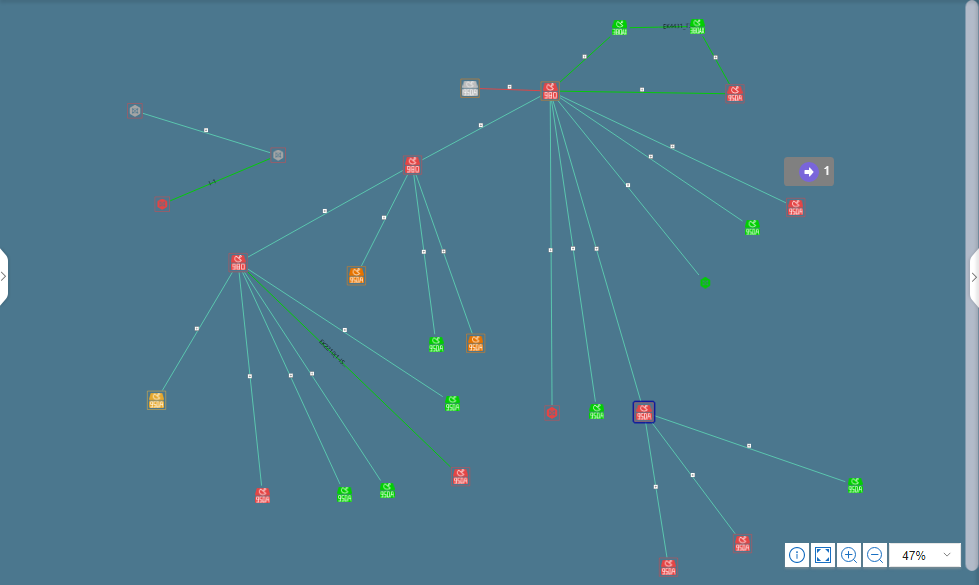ATN_Orange: (346, 271, 369, 288), (468, 332, 483, 355), (150, 393, 165, 409)
ATN_Red: (786, 198, 809, 221), (450, 467, 473, 490), (658, 559, 681, 582), (542, 81, 564, 104), (229, 253, 246, 276), (633, 406, 656, 423), (725, 88, 748, 104)
Link_Blue: (554, 100, 707, 288), (560, 94, 791, 208), (554, 117, 644, 404), (571, 100, 748, 227), (242, 282, 344, 490), (271, 312, 376, 475), (277, 289, 439, 393), (548, 100, 601, 404), (248, 167, 405, 254), (670, 418, 843, 481), (413, 173, 479, 337), (652, 424, 733, 531), (162, 271, 231, 383), (425, 94, 538, 156), (236, 271, 262, 490), (358, 173, 411, 270), (150, 112, 265, 150), (413, 199, 431, 326), (646, 442, 665, 554), (548, 329, 558, 401)
Link_Green: (248, 271, 451, 471), (560, 100, 707, 288), (168, 155, 269, 201), (560, 32, 610, 80), (701, 32, 736, 86), (560, 88, 730, 98)
RTN_Green: (340, 485, 356, 508), (431, 338, 448, 355), (590, 406, 607, 423), (688, 20, 705, 37), (382, 485, 399, 502), (444, 400, 459, 416)
RTN_Red: (731, 534, 754, 557)
Switch_Red: (407, 155, 424, 178)
